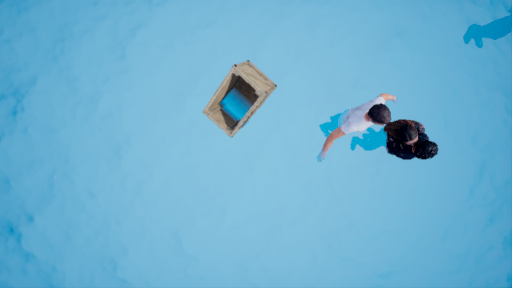person: (305, 90, 443, 173)
